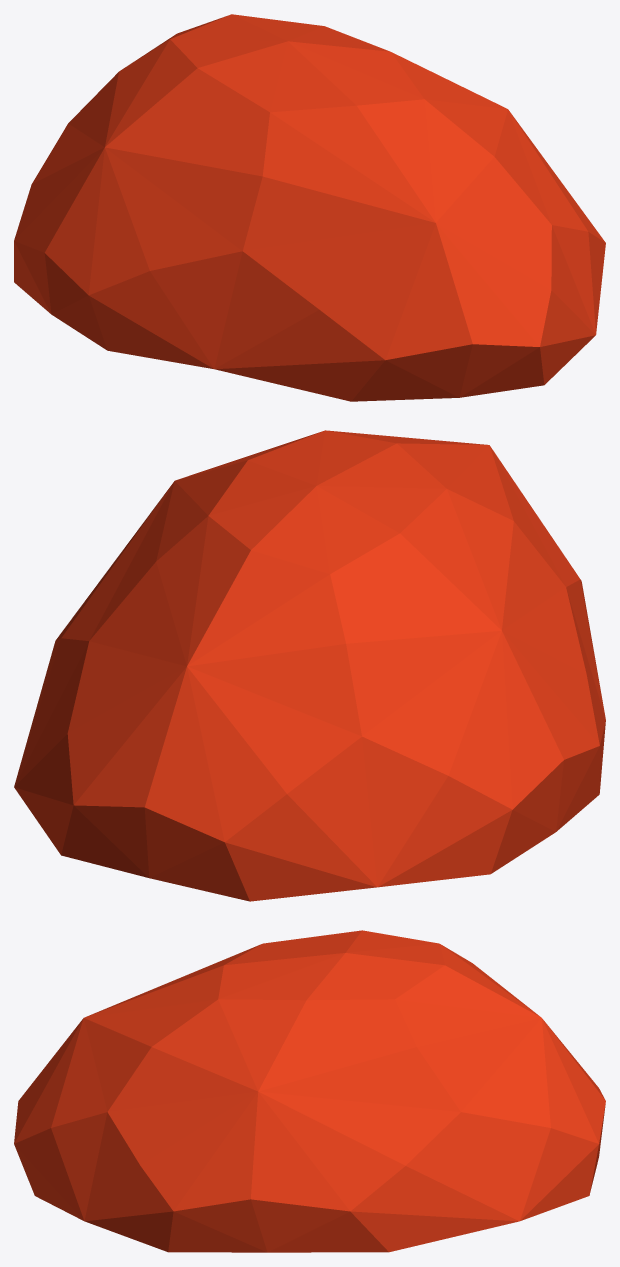
File: Rock 7.fbx
3 views of the same model, one above another, from view 1: azimuth 30°, elevation 25°; view 2: azimuth 150°, elevation 25°; view 3: azimuth 270°, elevation 25° (orthographic). The views are drawn at different scales.
Visible parts, largest first — view 1: Rock 7; view 2: Rock 7; view 3: Rock 7.
Boxes of the visible parts, bbox=[...] form: Rock 7: bbox=[14, 14, 605, 401]; Rock 7: bbox=[14, 430, 605, 901]; Rock 7: bbox=[14, 930, 605, 1252].
Size of the model in its own units: 23.45 by 12.42 by 29.86.
1 material, 1 textured.
